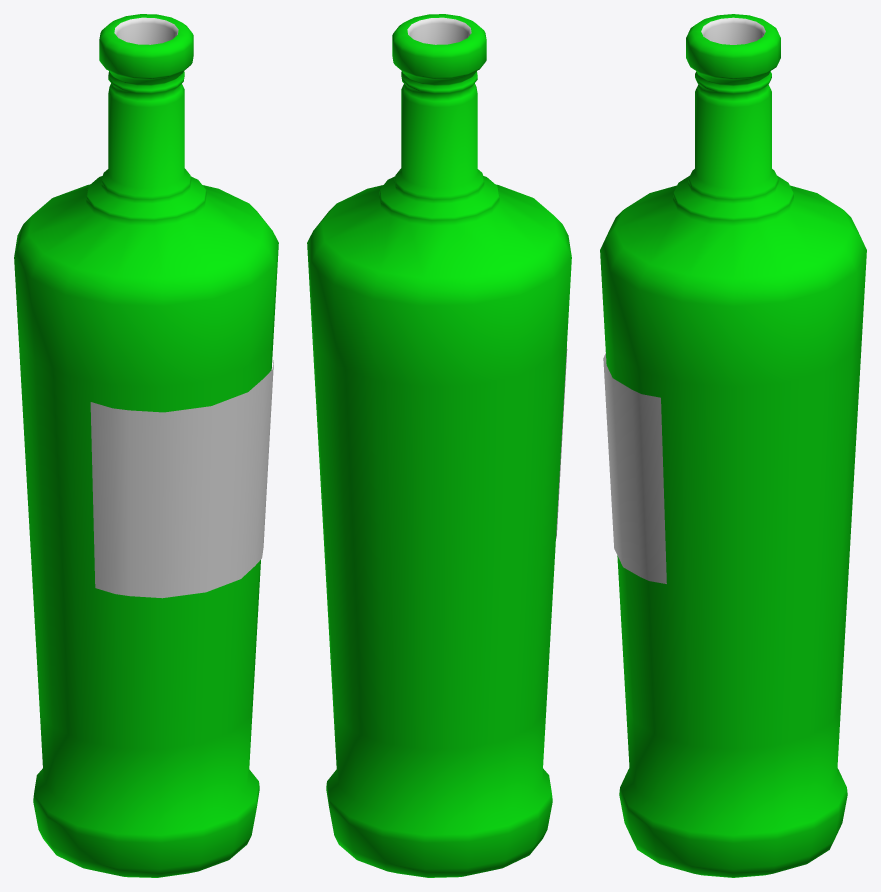
Rendered from Bottle_1.fbx.
3 renders of one model, left to right at view 1: azimuth 30°, elevation 25°; view 2: azimuth 150°, elevation 25°; view 3: azimuth 270°, elevation 25°, orthographic.
Visible parts, largest first — view 1: Bottle_1 - Forbidden Bile Batch; view 2: Bottle_1 - Forbidden Bile Batch; view 3: Bottle_1 - Forbidden Bile Batch.
Part boxes in pixels (x1,y1,x2,y2): Bottle_1 - Forbidden Bile Batch: (14,14,278,877); Bottle_1 - Forbidden Bile Batch: (307,14,571,877); Bottle_1 - Forbidden Bile Batch: (600,14,866,877).
Size of the model in its own units: 9.44 by 31.65 by 9.44.
